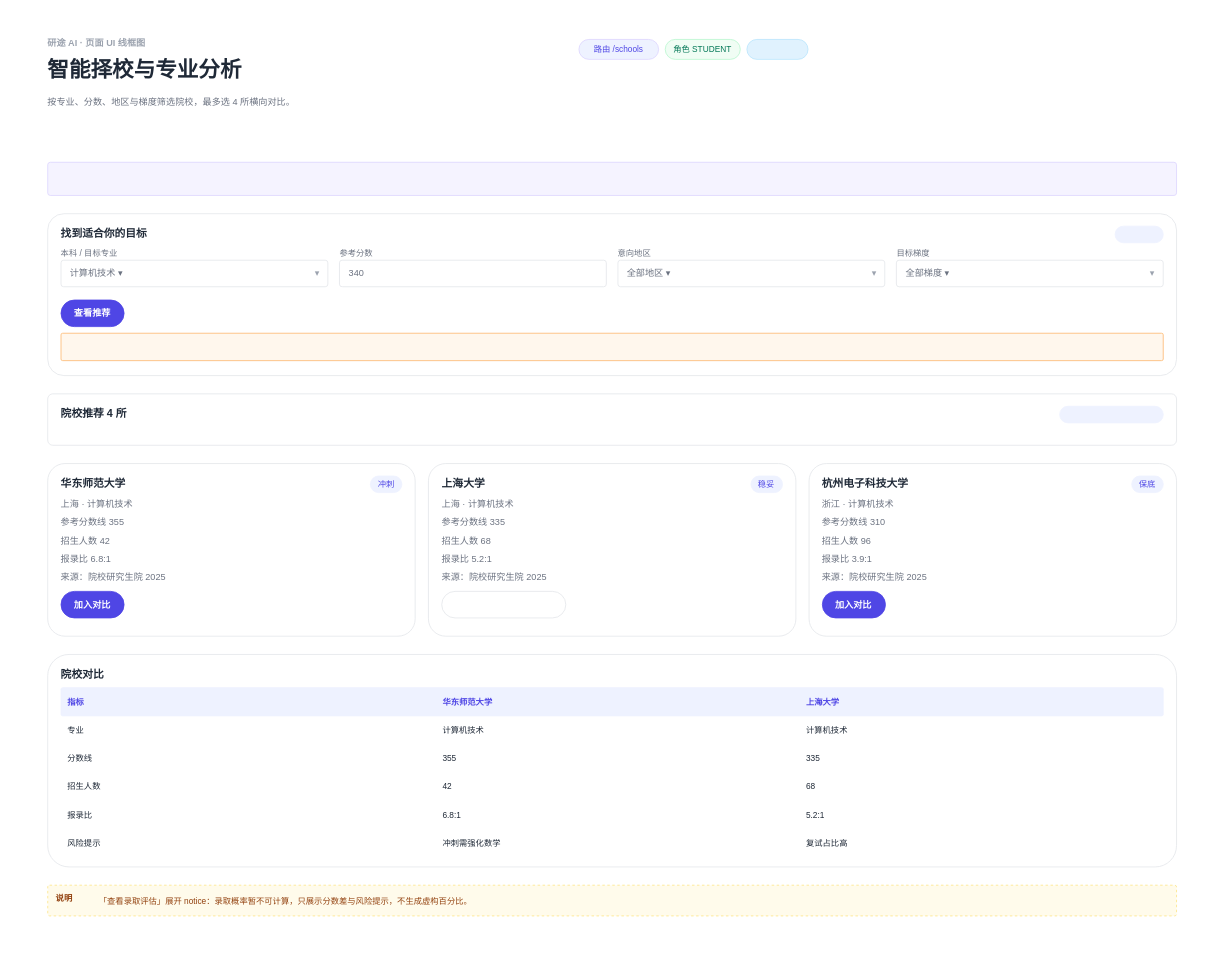
The diagram is 1225 pixels wide and 973 high, and some of its shapes have lost their labels. The shapes that lost their labels are listed below. From the top down, each one's box as (x1, y1, x2, y2) in pixels, then its label:
(746, 39, 808, 59): 模式 demo
(47, 161, 1177, 195): ⓘ 当前为前端演示。示例院校、学习资料与 AI 回复均不代表真实业务结果；本地学习操作仅保存在本浏览器。
(1114, 225, 1163, 243): 择校分析
(60, 332, 1163, 361): 真实接口当前仅接收专业与分数；地区与梯度在返回结果中筛选。
(1059, 405, 1163, 423): 最多选择 4 所进行对比
(441, 591, 566, 618): 已加入对比 · 点击移除
